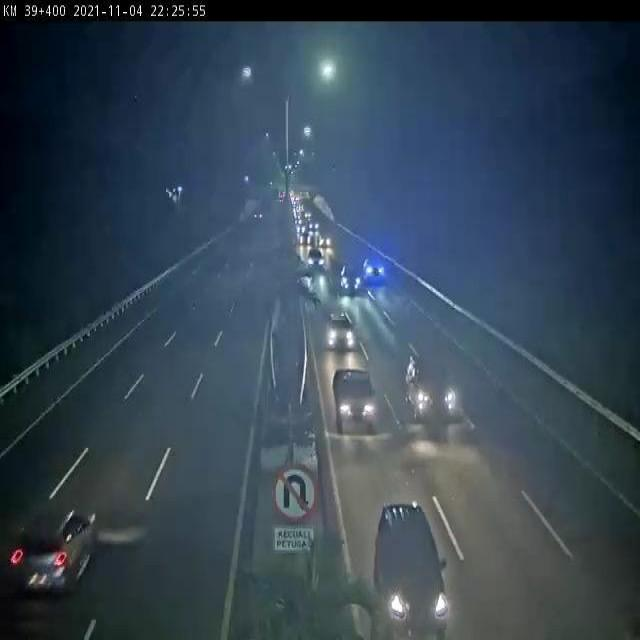car: (371, 491, 450, 636), (6, 505, 94, 595), (406, 353, 462, 423), (335, 369, 381, 428), (323, 308, 367, 357), (361, 245, 389, 291), (338, 256, 364, 295), (305, 250, 329, 274)
